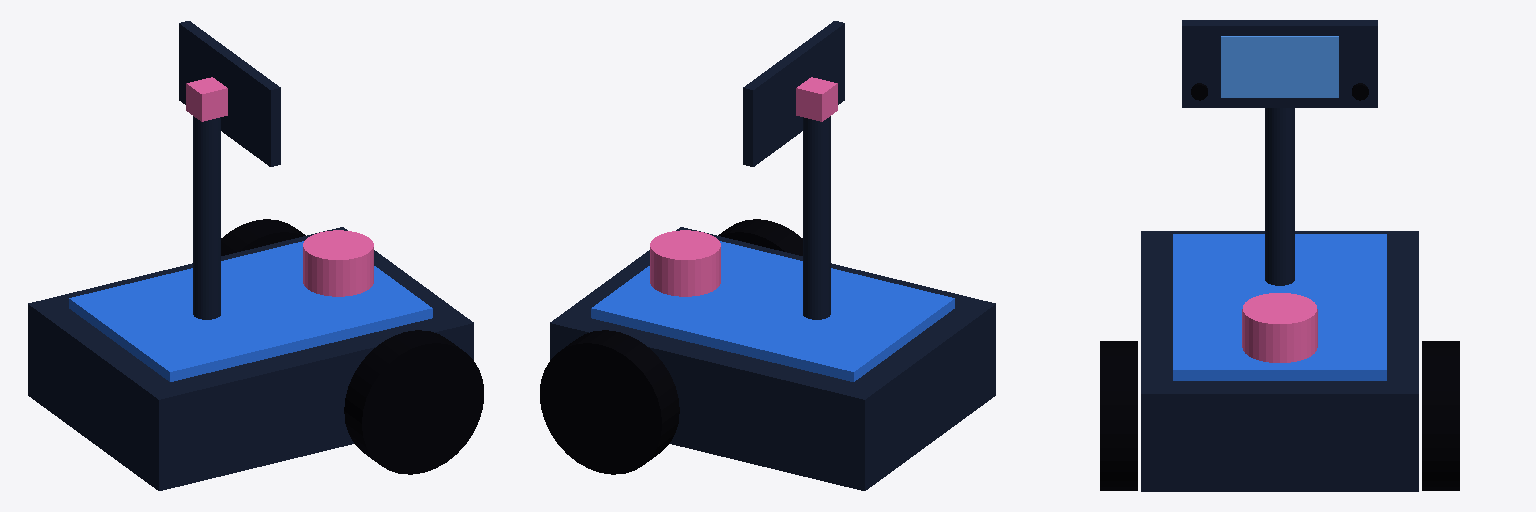
The robot description file, URDF, robot "vitabot":
<?xml version="1.0"?>
<!-- vitabot.urdf — modelo de prueba del visor 3D de la web del proyecto.
     Un robot diferencial imaginario que lleva una PS Vita como "cara":
     base + 2 ruedas motrices (continuous) + rueda loca + mástil con la
     Vita en un joint pan (revolute) + un "lidar" decorativo.
     Solo primitivas: se visualiza sin mallas externas. -->
<robot name="vitabot">

  <material name="azul_vita">
    <color rgba="0.23 0.51 0.96 1.0"/>
  </material>
  <material name="gris_oscuro">
    <color rgba="0.12 0.16 0.25 1.0"/>
  </material>
  <material name="negro_rueda">
    <color rgba="0.05 0.05 0.07 1.0"/>
  </material>
  <material name="pantalla">
    <color rgba="0.38 0.65 0.98 1.0"/>
  </material>
  <material name="acento">
    <color rgba="0.96 0.45 0.71 1.0"/>
  </material>

  <!-- ================= base ================= -->
  <link name="base_link">
    <visual>
      <origin xyz="0 0 0.08" rpy="0 0 0"/>
      <geometry><box size="0.36 0.26 0.10"/></geometry>
      <material name="gris_oscuro"/>
    </visual>
    <visual>
      <!-- tapa superior -->
      <origin xyz="0 0 0.135" rpy="0 0 0"/>
      <geometry><box size="0.30 0.20 0.012"/></geometry>
      <material name="azul_vita"/>
    </visual>
  </link>

  <!-- ================= ruedas motrices ================= -->
  <link name="rueda_izq">
    <visual>
      <origin xyz="0 0 0" rpy="1.5708 0 0"/>
      <geometry><cylinder radius="0.07" length="0.035"/></geometry>
      <material name="negro_rueda"/>
    </visual>
  </link>
  <joint name="rueda_izq_joint" type="continuous">
    <parent link="base_link"/>
    <child link="rueda_izq"/>
    <origin xyz="0.10 0.15 0.07" rpy="0 0 0"/>
    <axis xyz="0 1 0"/>
  </joint>

  <link name="rueda_der">
    <visual>
      <origin xyz="0 0 0" rpy="1.5708 0 0"/>
      <geometry><cylinder radius="0.07" length="0.035"/></geometry>
      <material name="negro_rueda"/>
    </visual>
  </link>
  <joint name="rueda_der_joint" type="continuous">
    <parent link="base_link"/>
    <child link="rueda_der"/>
    <origin xyz="0.10 -0.15 0.07" rpy="0 0 0"/>
    <axis xyz="0 1 0"/>
  </joint>

  <!-- rueda loca trasera -->
  <link name="rueda_loca">
    <visual>
      <geometry><sphere radius="0.035"/></geometry>
      <material name="negro_rueda"/>
    </visual>
  </link>
  <joint name="rueda_loca_joint" type="fixed">
    <parent link="base_link"/>
    <child link="rueda_loca"/>
    <origin xyz="-0.13 0 0.035" rpy="0 0 0"/>
  </joint>

  <!-- ================= mástil ================= -->
  <link name="mastil">
    <visual>
      <origin xyz="0 0 0.11" rpy="0 0 0"/>
      <geometry><cylinder radius="0.014" length="0.22"/></geometry>
      <material name="gris_oscuro"/>
    </visual>
  </link>
  <joint name="mastil_joint" type="fixed">
    <parent link="base_link"/>
    <child link="mastil"/>
    <origin xyz="-0.05 0 0.14" rpy="0 0 0"/>
  </joint>

  <!-- ============ la Vita (pan + tilt) ============ -->
  <link name="soporte_vita">
    <visual>
      <geometry><box size="0.03 0.03 0.03"/></geometry>
      <material name="acento"/>
    </visual>
  </link>
  <joint name="vita_pan" type="revolute">
    <parent link="mastil"/>
    <child link="soporte_vita"/>
    <origin xyz="0 0 0.235" rpy="0 0 0"/>
    <axis xyz="0 0 1"/>
    <limit lower="-2.618" upper="2.618" effort="1" velocity="1"/>
  </joint>

  <link name="vita">
    <!-- cuerpo de la consola -->
    <visual>
      <origin xyz="0.006 0 0" rpy="0 0 0"/>
      <geometry><box size="0.012 0.182 0.084"/></geometry>
      <material name="gris_oscuro"/>
    </visual>
    <!-- pantalla OLED de 5" -->
    <visual>
      <origin xyz="0.0125 0 0" rpy="0 0 0"/>
      <geometry><box size="0.002 0.110 0.063"/></geometry>
      <material name="pantalla"/>
    </visual>
    <!-- sticks -->
    <visual>
      <origin xyz="0.013 0.075 -0.025" rpy="0 1.5708 0"/>
      <geometry><cylinder radius="0.008" length="0.006"/></geometry>
      <material name="negro_rueda"/>
    </visual>
    <visual>
      <origin xyz="0.013 -0.075 -0.025" rpy="0 1.5708 0"/>
      <geometry><cylinder radius="0.008" length="0.006"/></geometry>
      <material name="negro_rueda"/>
    </visual>
  </link>
  <joint name="vita_tilt" type="revolute">
    <parent link="soporte_vita"/>
    <child link="vita"/>
    <origin xyz="0.02 0 0" rpy="0 0 0"/>
    <axis xyz="0 1 0"/>
    <limit lower="-0.8" upper="0.8" effort="1" velocity="1"/>
  </joint>

  <!-- ================= "lidar" decorativo ================= -->
  <link name="lidar">
    <visual>
      <origin xyz="0 0 0.02" rpy="0 0 0"/>
      <geometry><cylinder radius="0.035" length="0.04"/></geometry>
      <material name="acento"/>
    </visual>
  </link>
  <joint name="lidar_joint" type="continuous">
    <parent link="base_link"/>
    <child link="lidar"/>
    <origin xyz="0.10 0 0.141" rpy="0 0 0"/>
    <axis xyz="0 0 1"/>
  </joint>

</robot>

--- What the picture shows (computed from the rendered views, not written in the file) ---
The picture shows the robot from 3 angles, left to right: view 1: azimuth 30°, elevation 25°; view 2: azimuth 150°, elevation 25°; view 3: azimuth 270°, elevation 25°; orthographic projection.
Model vitabot with 8 links and 7 joints (2 revolute, 3 continuous, 2 fixed), rooted at base_link, posed every joint at zero.
Visible links, largest first — view 1: base_link, rueda_der, vita, mastil, lidar, rueda_izq, soporte_vita; view 2: base_link, rueda_izq, vita, mastil, lidar, rueda_der, soporte_vita; view 3: base_link, vita, rueda_izq, rueda_der, mastil, lidar.
Link boxes in pixels (bbox=[...]): base_link: bbox=[28, 227, 473, 490]; rueda_der: bbox=[344, 330, 483, 474]; vita: bbox=[179, 21, 280, 166]; mastil: bbox=[193, 116, 220, 319]; lidar: bbox=[303, 230, 373, 296]; rueda_izq: bbox=[221, 219, 305, 255]; soporte_vita: bbox=[186, 77, 227, 121]; base_link: bbox=[550, 227, 995, 490]; rueda_izq: bbox=[540, 330, 679, 474]; vita: bbox=[743, 21, 844, 166]; mastil: bbox=[803, 116, 830, 319]; lidar: bbox=[650, 230, 720, 296]; rueda_der: bbox=[718, 219, 802, 255]; soporte_vita: bbox=[796, 77, 837, 121]; base_link: bbox=[1141, 231, 1418, 491]; vita: bbox=[1182, 20, 1377, 107]; rueda_izq: bbox=[1422, 341, 1459, 490]; rueda_der: bbox=[1100, 341, 1137, 490]; mastil: bbox=[1265, 108, 1294, 285]; lidar: bbox=[1242, 293, 1317, 362].
Bounding box of the posed robot: 0.36 × 0.335 × 0.417 m (x, y, z).
Geometry: primitives only (box / cylinder / sphere), no mesh files.
